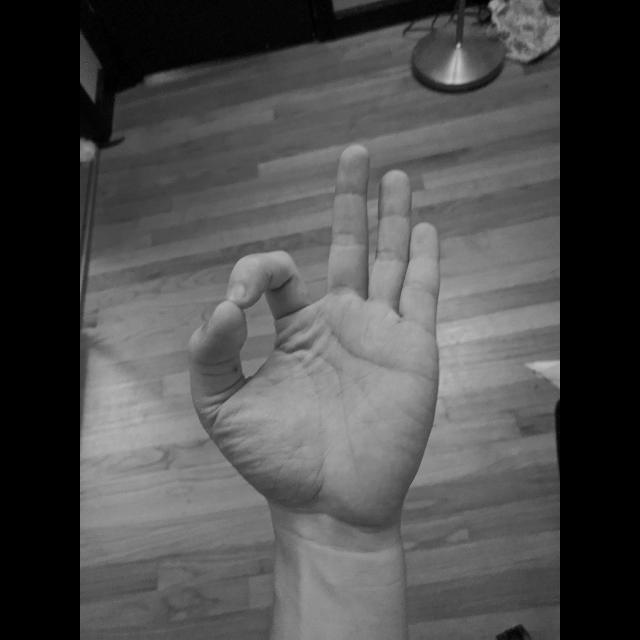F: (184, 138, 446, 538)
